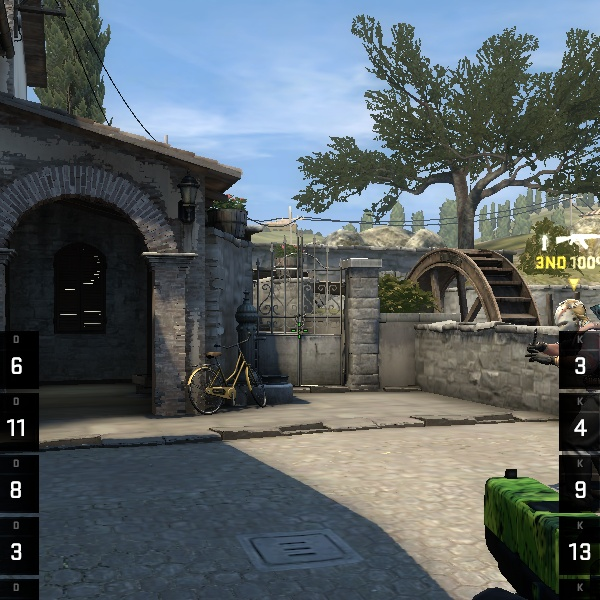t_head: (553, 291, 595, 334)
